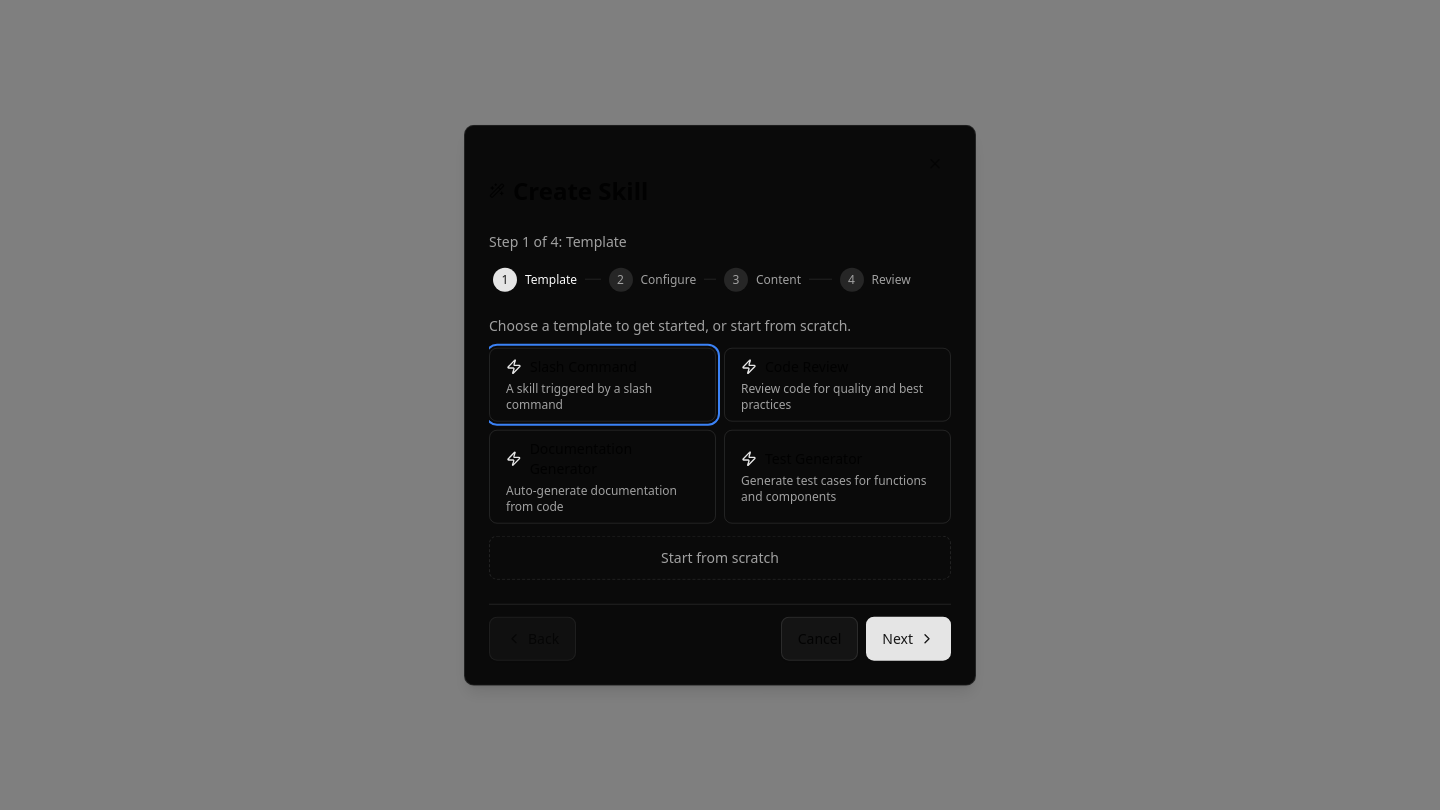
it: SkillCreationWizard › should advance to configure step from scratch
Click the button "Start from scratch" at (720, 557), box [489,535,951,579]
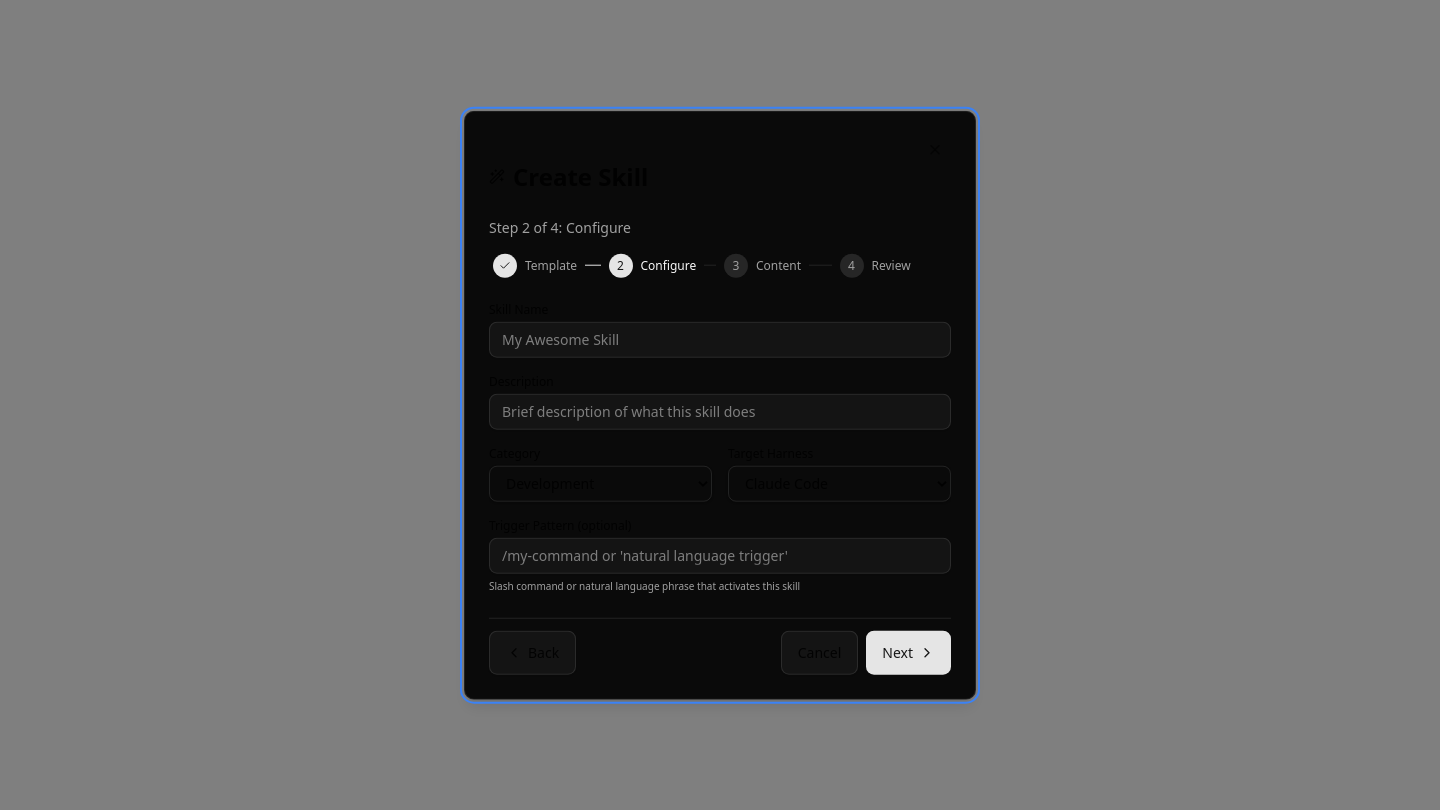
Now the field labelled "Skill Name" is shown, box [489,321,951,357]
